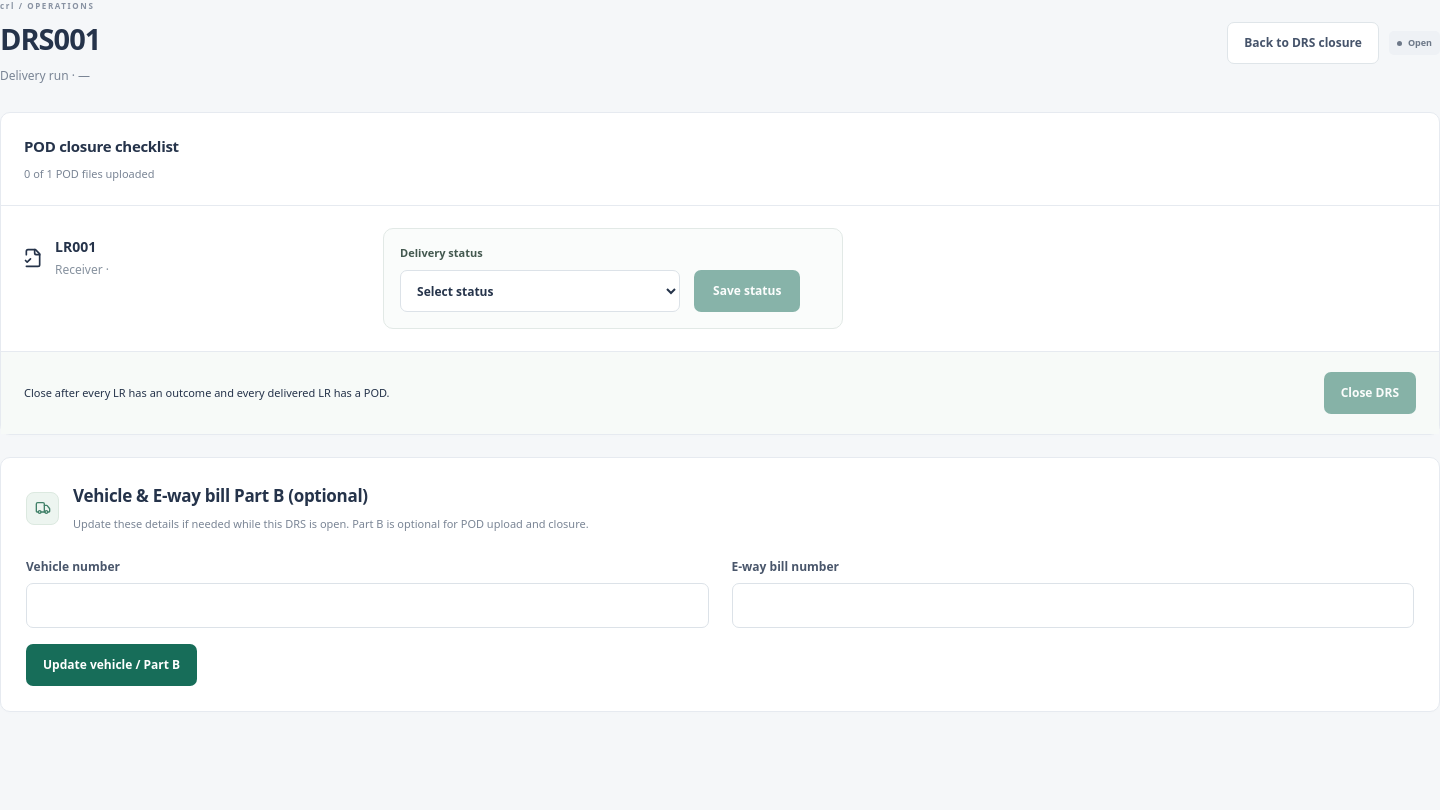
Scenario: asks for a mandatory reason only when Undelivered is selected
Select "Undelivered" in the dropdown named "Delivery status for LR001": x=540, y=291 [400, 270, 680, 312]
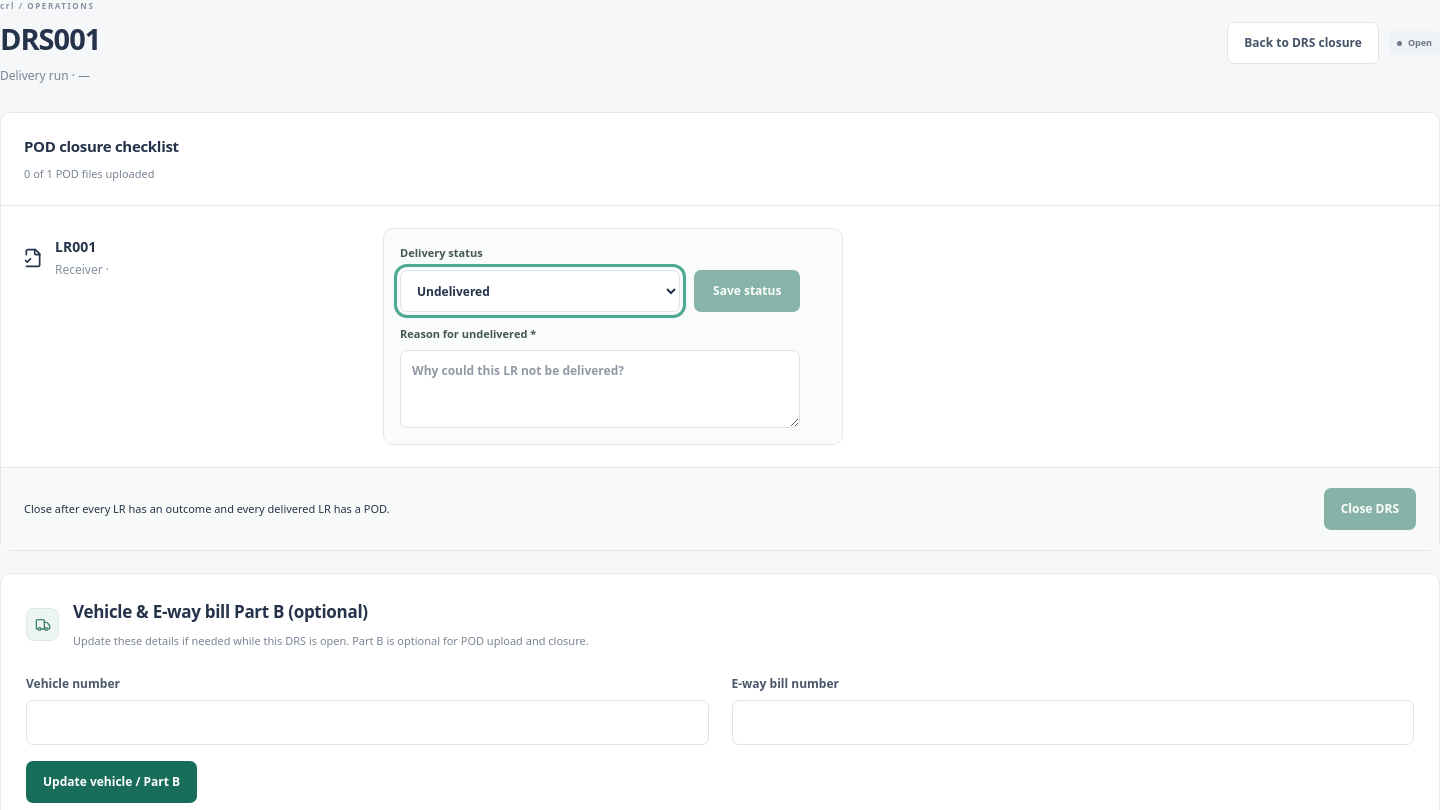
Expected: the button "Save status" is disabled, [694, 270, 800, 312]
In the text box named "Undelivered reason for LR001": x=600, y=389 [400, 350, 800, 428], type "Receiver unavailable"
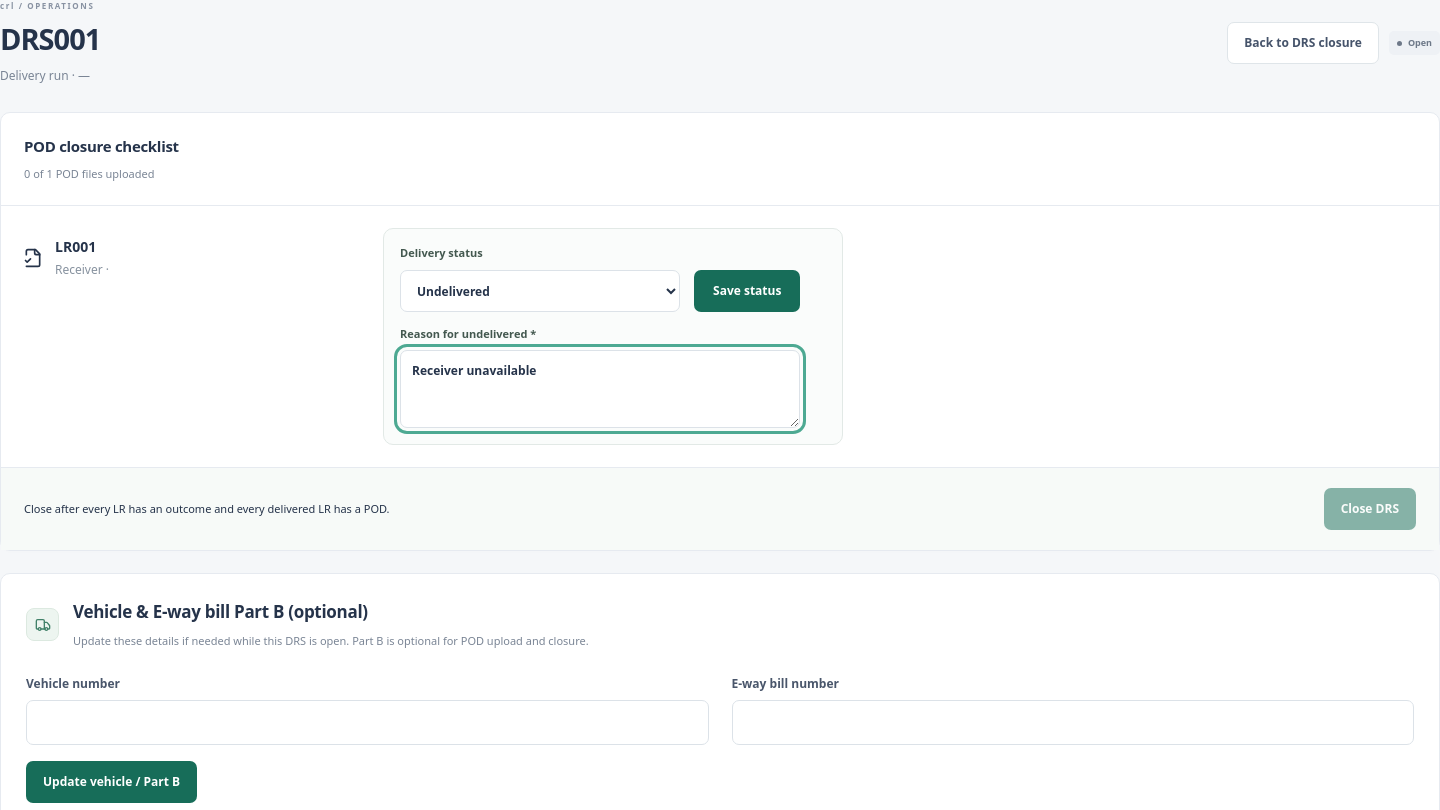
Click the button "Save status": x=747, y=291 [694, 270, 800, 312]
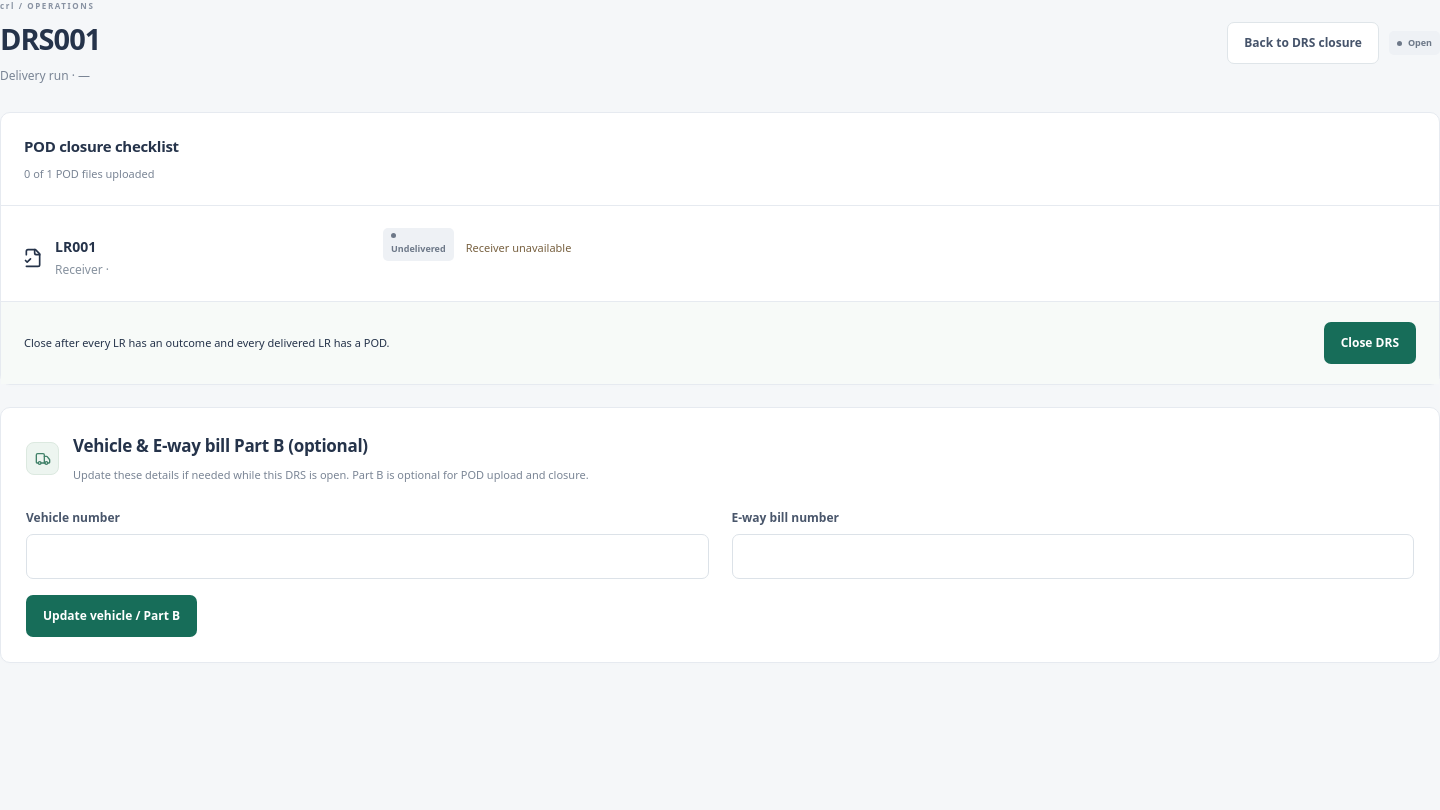
Expected: the text "Receiver unavailable" is shown, [466, 239, 571, 258]
